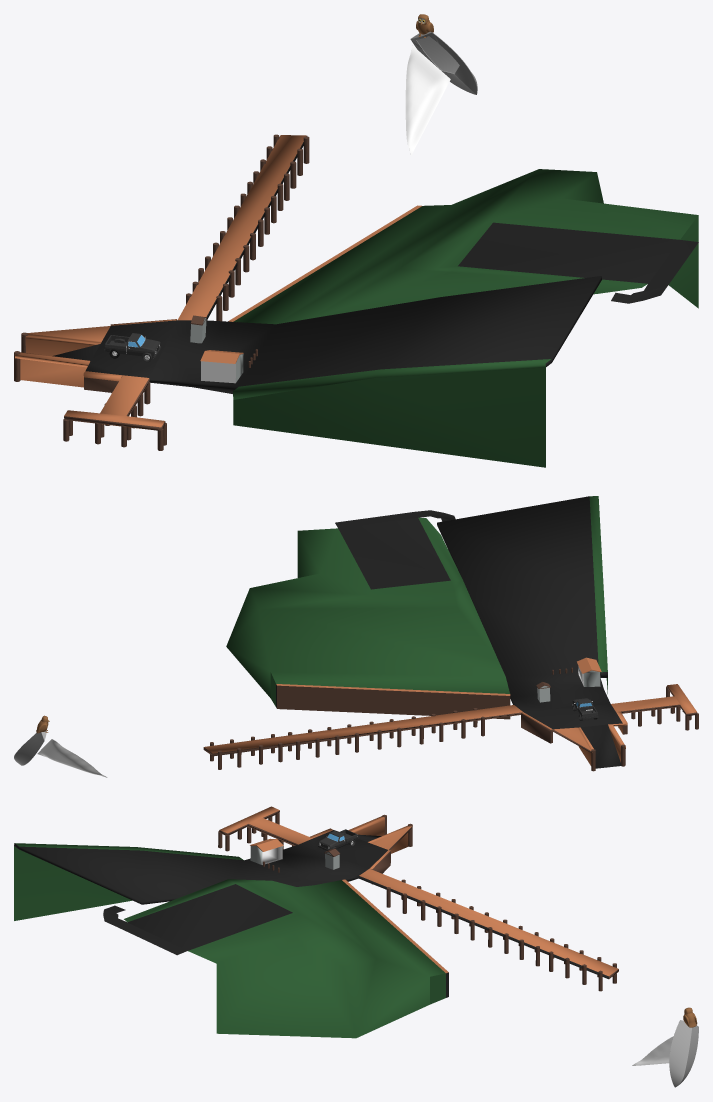
Rendered from intboatramp.glb.
3 renders of one model, top to bottom at view 1: azimuth 30°, elevation 25°; view 2: azimuth 150°, elevation 25°; view 3: azimuth 270°, elevation 25°, orthographic. The views are drawn at different scales.
Parts seen in each view (by area): view 1: Boat Launch.006, sailboat.001, Truck; view 2: Boat Launch.006, sailboat.001; view 3: Boat Launch.006, sailboat.001, Truck.
Part boxes in pixels (x1=…): Boat Launch.006: x1=14, y1=134, x2=698, y2=467; sailboat.001: x1=405, y1=31, x2=477, y2=155; Truck: x1=104, y1=333, x2=161, y2=357; Boat Launch.006: x1=203, y1=496, x2=698, y2=771; sailboat.001: x1=14, y1=730, x2=107, y2=777; Boat Launch.006: x1=14, y1=806, x2=618, y2=1038; sailboat.001: x1=632, y1=1020, x2=698, y2=1087; Truck: x1=318, y1=829, x2=358, y2=850.
Size of the model in its own units: 0.3959 by 0.0892 by 0.4561.
